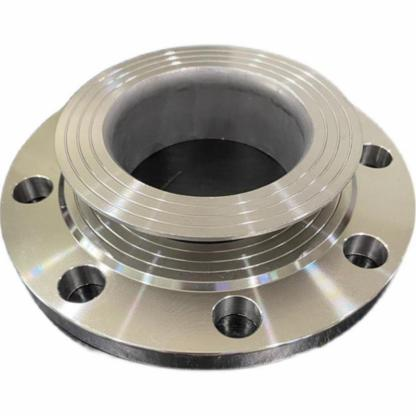FOD: (0, 40, 415, 378)
